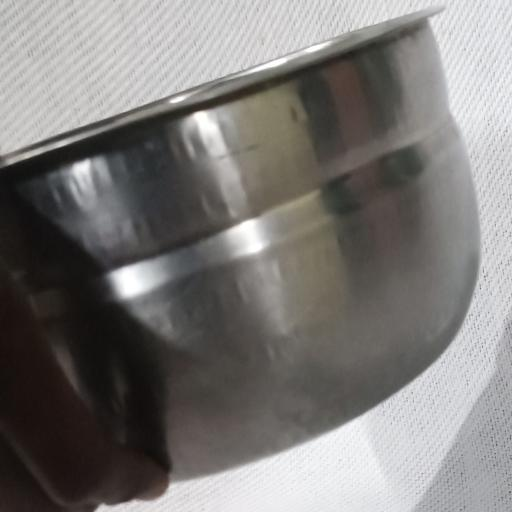vessel: (0, 10, 479, 478)
